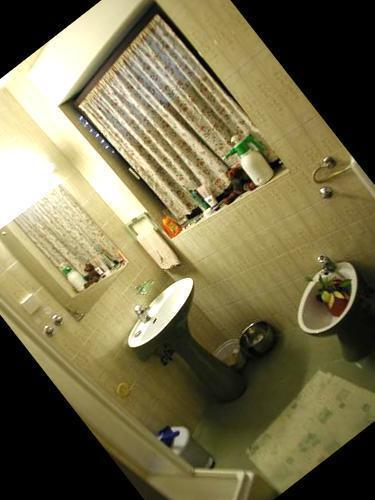Bote de Basura: (135, 407, 225, 500)
Ducha: (0, 118, 274, 500)
Lavamanos: (119, 270, 263, 423)
Otro Obstaculo: (227, 309, 284, 366), (207, 335, 255, 384)
Sanitario: (272, 245, 375, 383), (306, 153, 375, 345)
